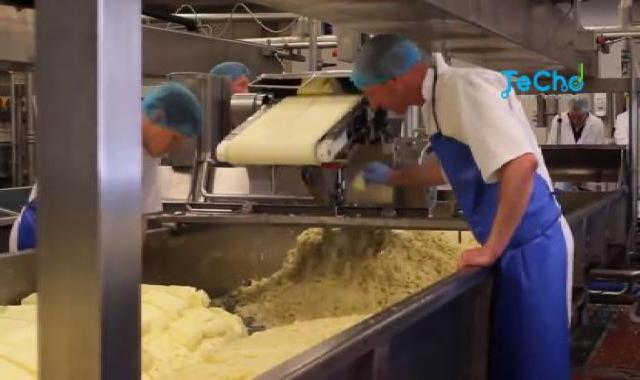hairnet: (344, 31, 428, 94), (145, 82, 211, 137), (206, 54, 262, 94)
